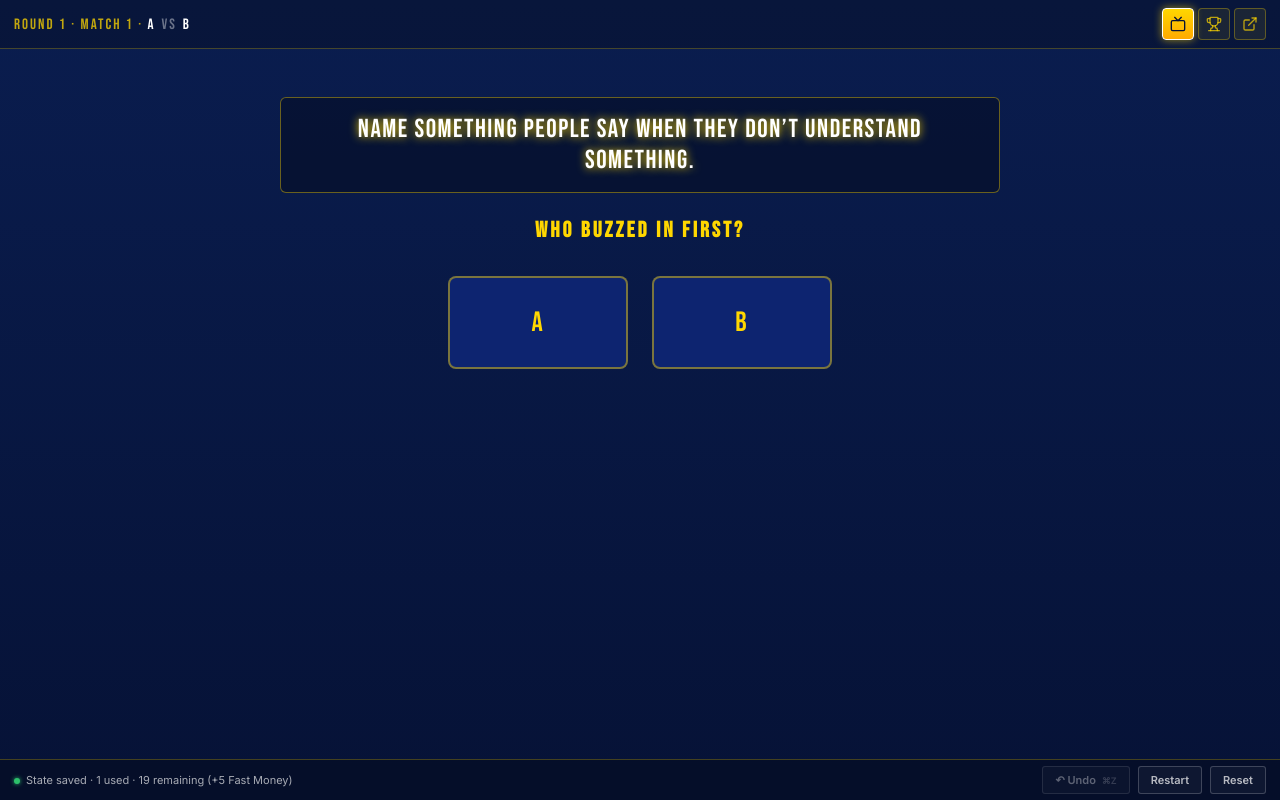
Test case: AdminView: Reset and Restart footer buttons › Cancel in the modal leaves state unchanged (still mid-tournament)
Click the button "Reset".
click(1238, 780)  # box [1210,766,1266,794]
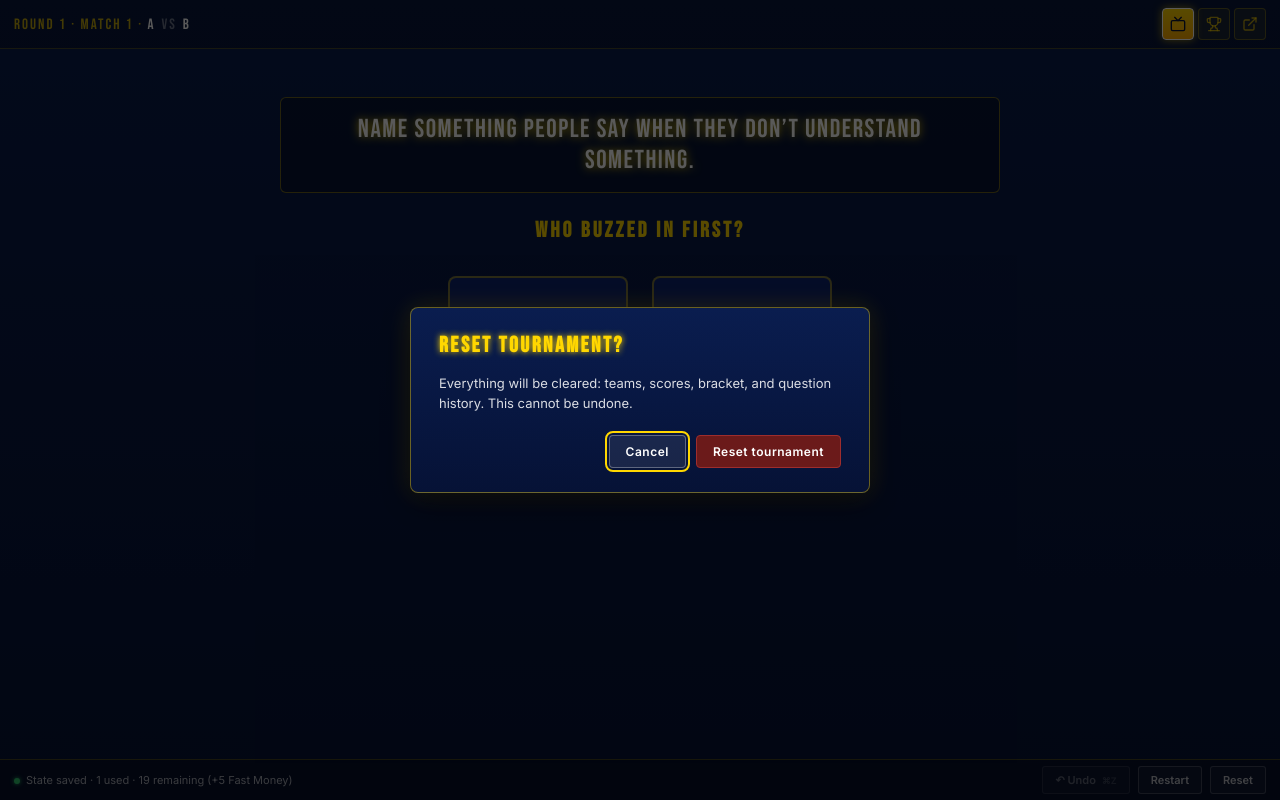
Click the button "Cancel".
click(647, 452)  # box [609,435,686,468]
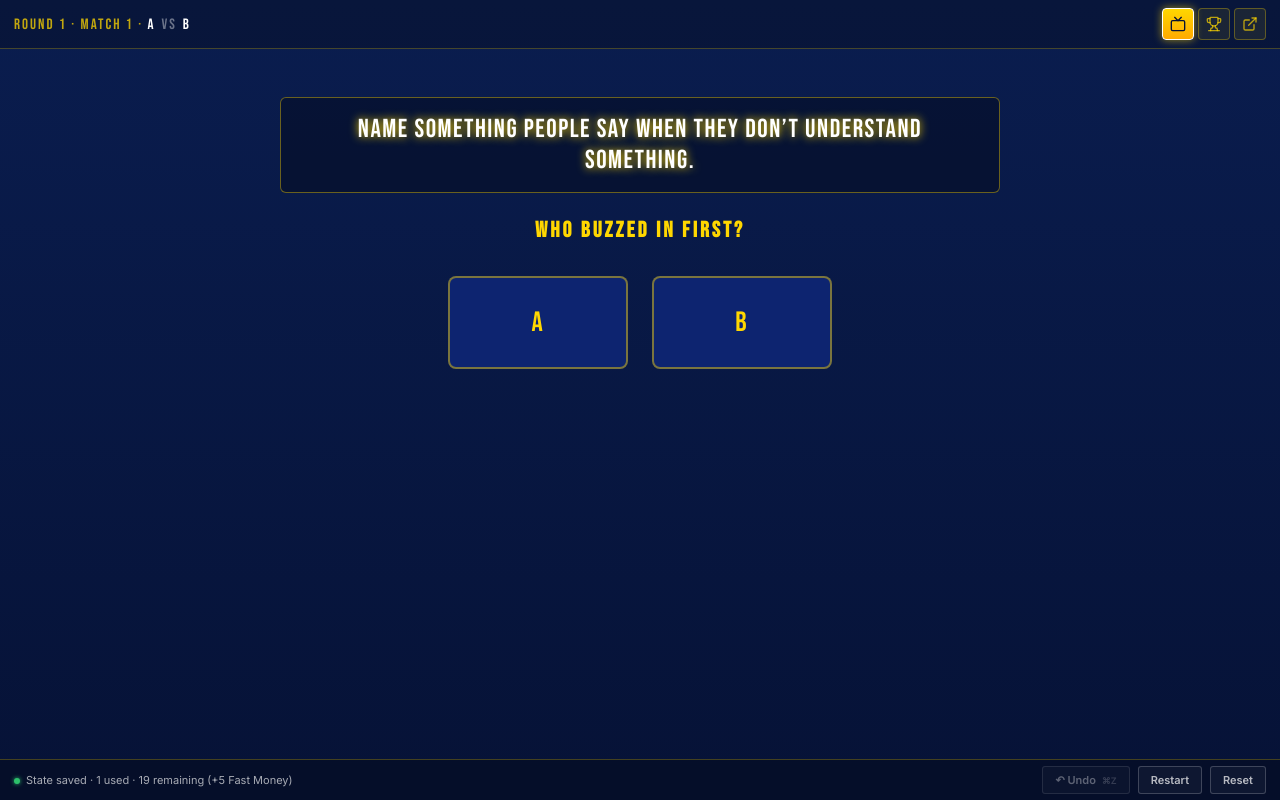
Expected: the text "State saved · 1 used · 19 remaining (+5 Fast Money)" is shown, [14,773,292,787]
Expected: the heading "Reset tournament?" is gone
